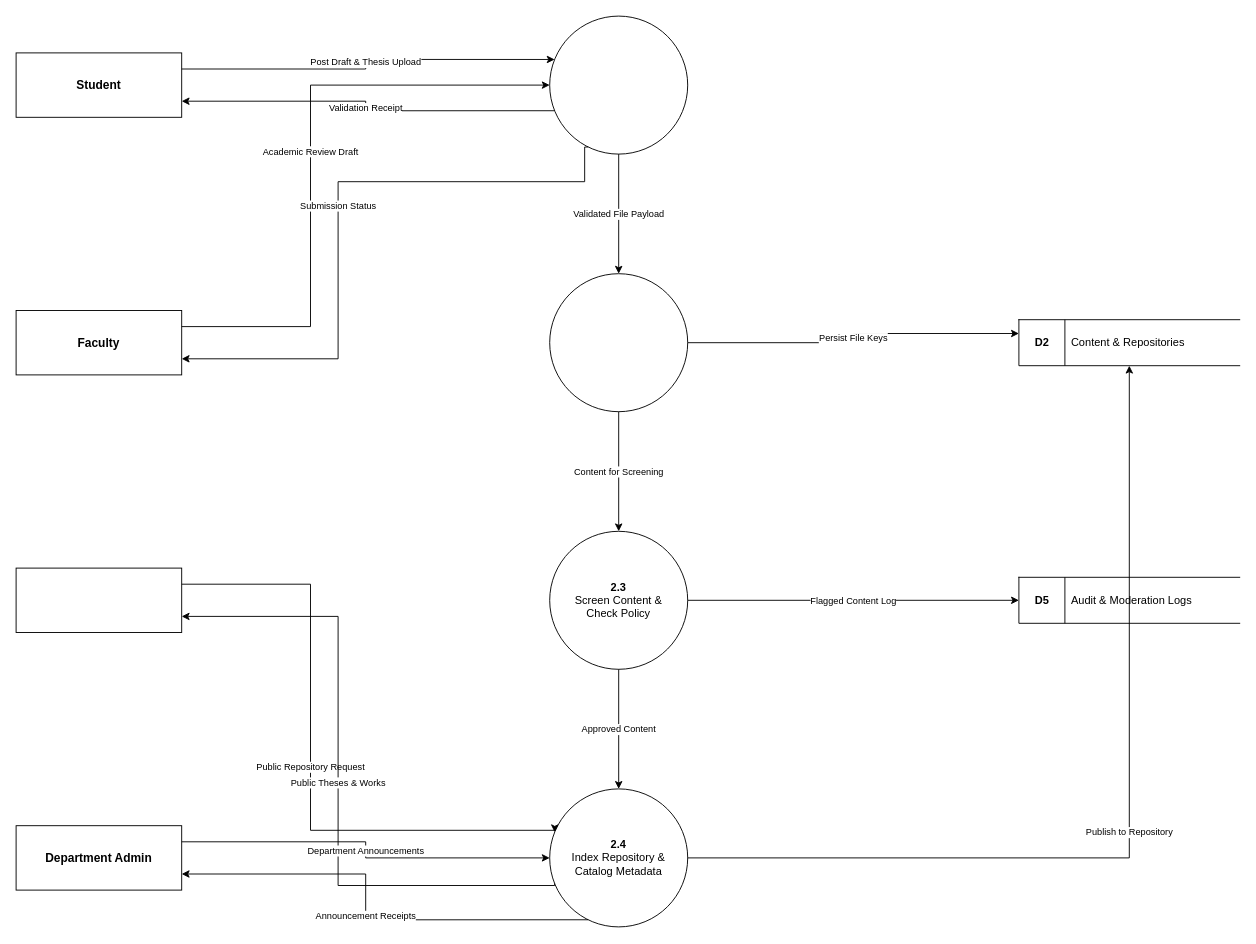
The diagram is 1256 pixels wide and 944 high, and some of its shapes have lost their labels. The shapes that lost their labels are listed below. From the top down, each one's centre as x and y in pixels, then its label:
At point (618, 84): "2.1 Validate Post & Attachments".
At point (618, 342): "2.2 Store Media & Generate URLs".
At point (98, 599): "Guest".
